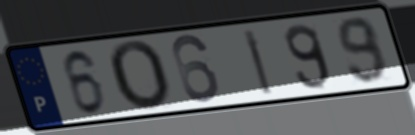6: (171, 32, 222, 107), (61, 48, 109, 116)
9: (335, 15, 393, 86), (283, 22, 333, 91)
I: (240, 27, 275, 97)
O: (105, 38, 174, 113)
